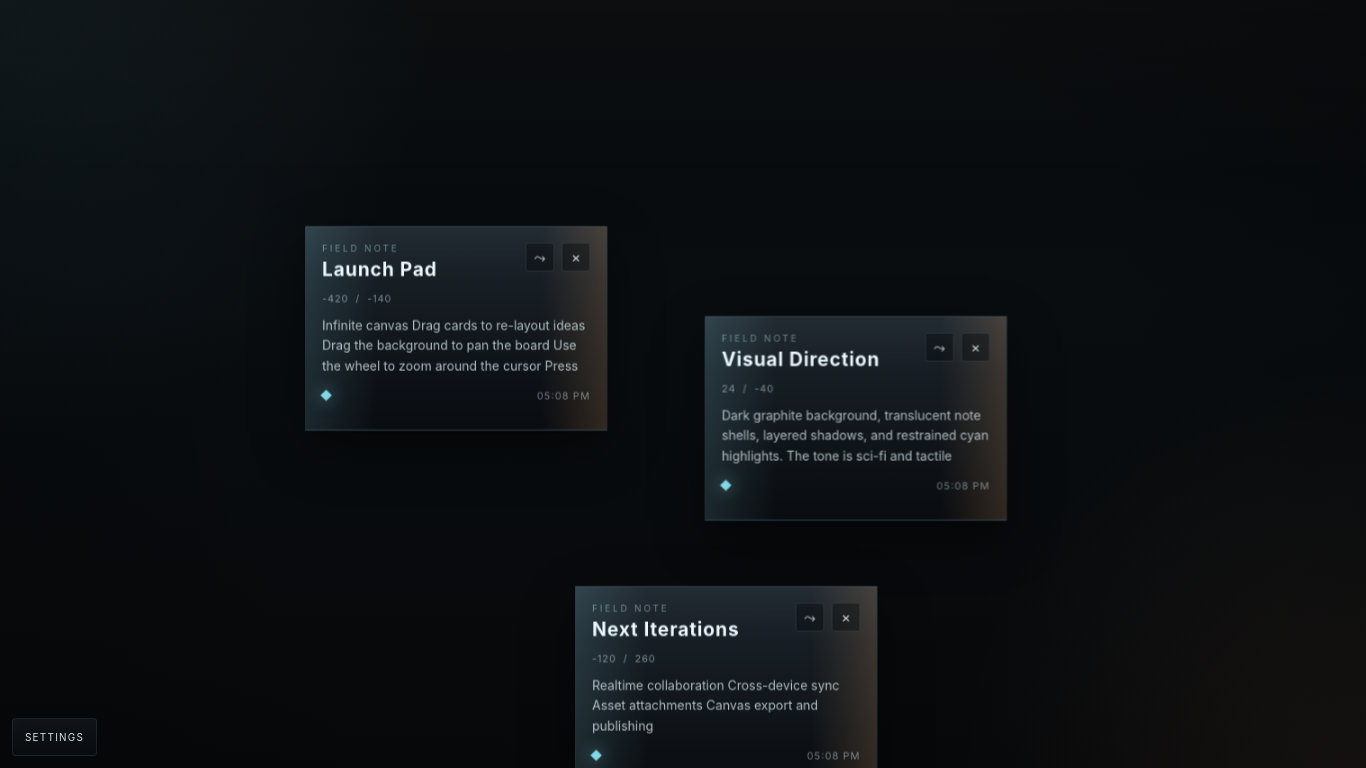
it: note interactions › opens settings from the bottom-left status dock
Step 1. Click the button with aria-label "open settings" → (54, 737), box [12,718,97,756]
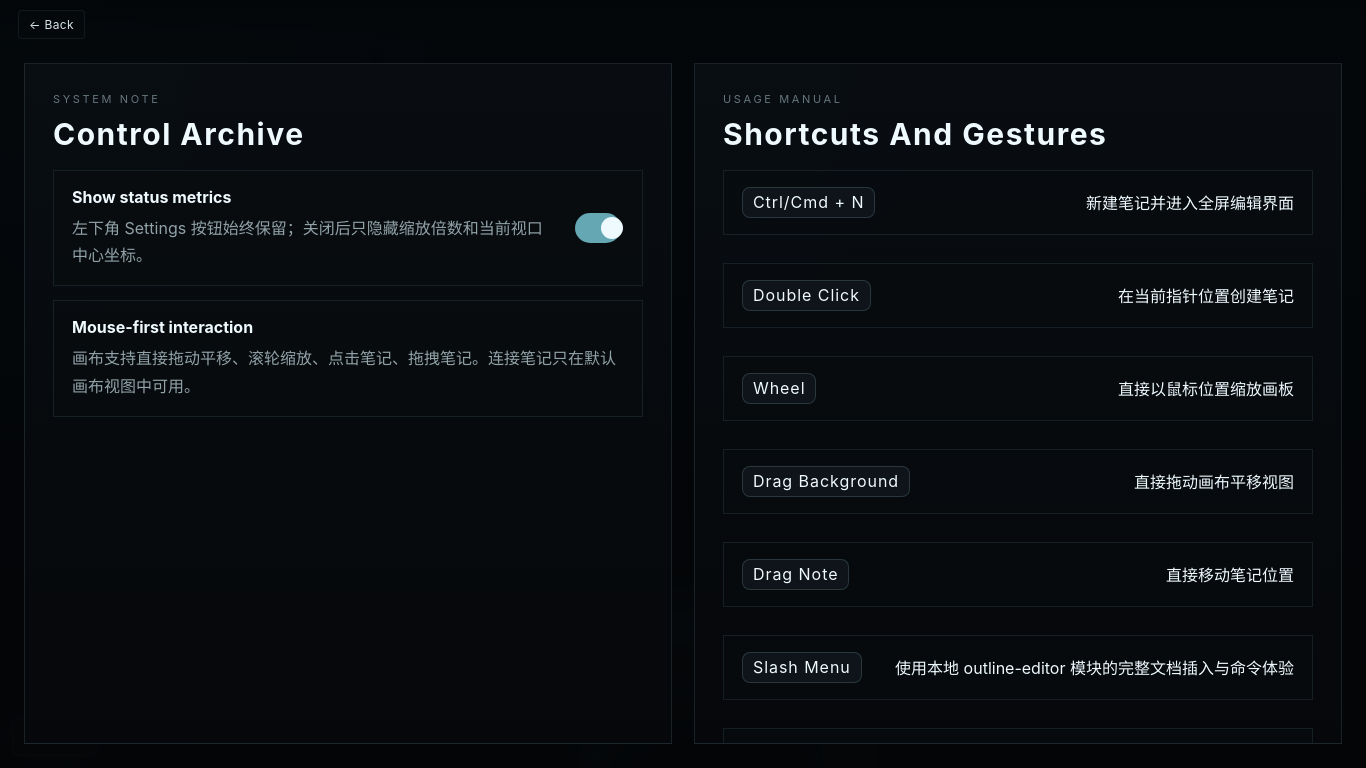
Result: the heading "Control Archive" is shown at [53,116,304,152]
